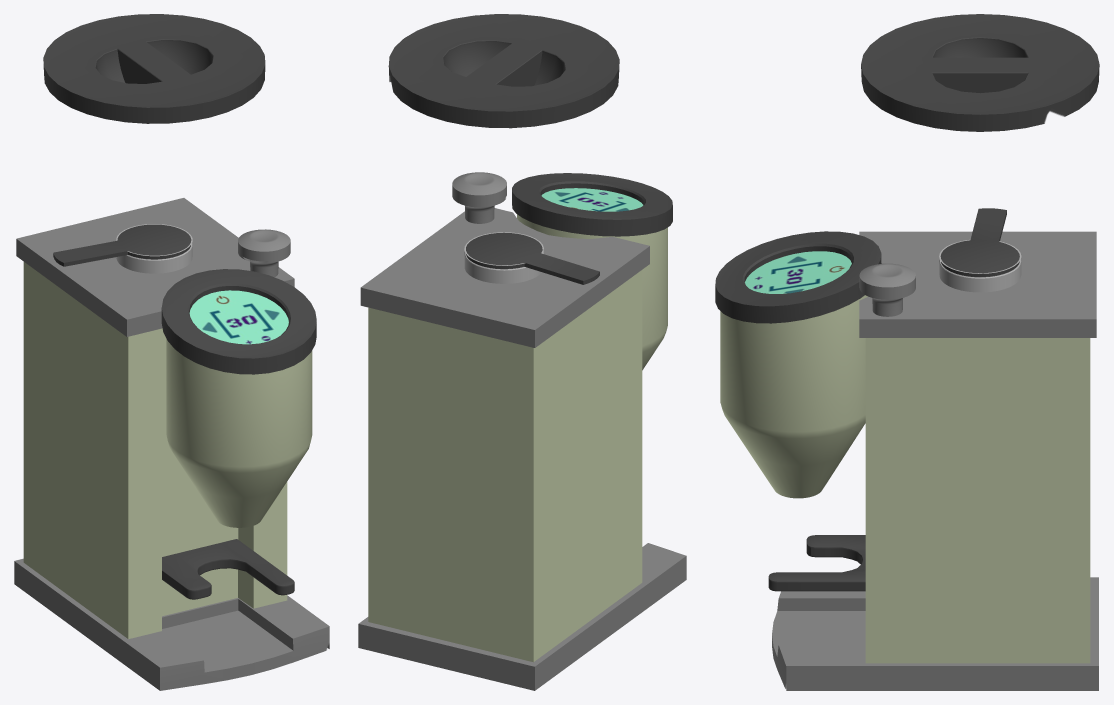
File: coffee_machine.glb
3 renders of one model, left to right at view 1: azimuth 30°, elevation 25°; view 2: azimuth 150°, elevation 25°; view 3: azimuth 270°, elevation 25°, orthographic. The views are drawn at different scales.
Visible parts, largest first — view 1: machine_body.000; view 2: machine_body.000; view 3: machine_body.000.
Boxes of the visible parts, x1=… form: machine_body.000: x1=14, y1=14, x2=329, y2=690; machine_body.000: x1=358, y1=14, x2=686, y2=690; machine_body.000: x1=715, y1=14, x2=1099, y2=690.
Size of the model in its own units: 14.11 by 37.99 by 22.73.
1 material, 1 textured.
